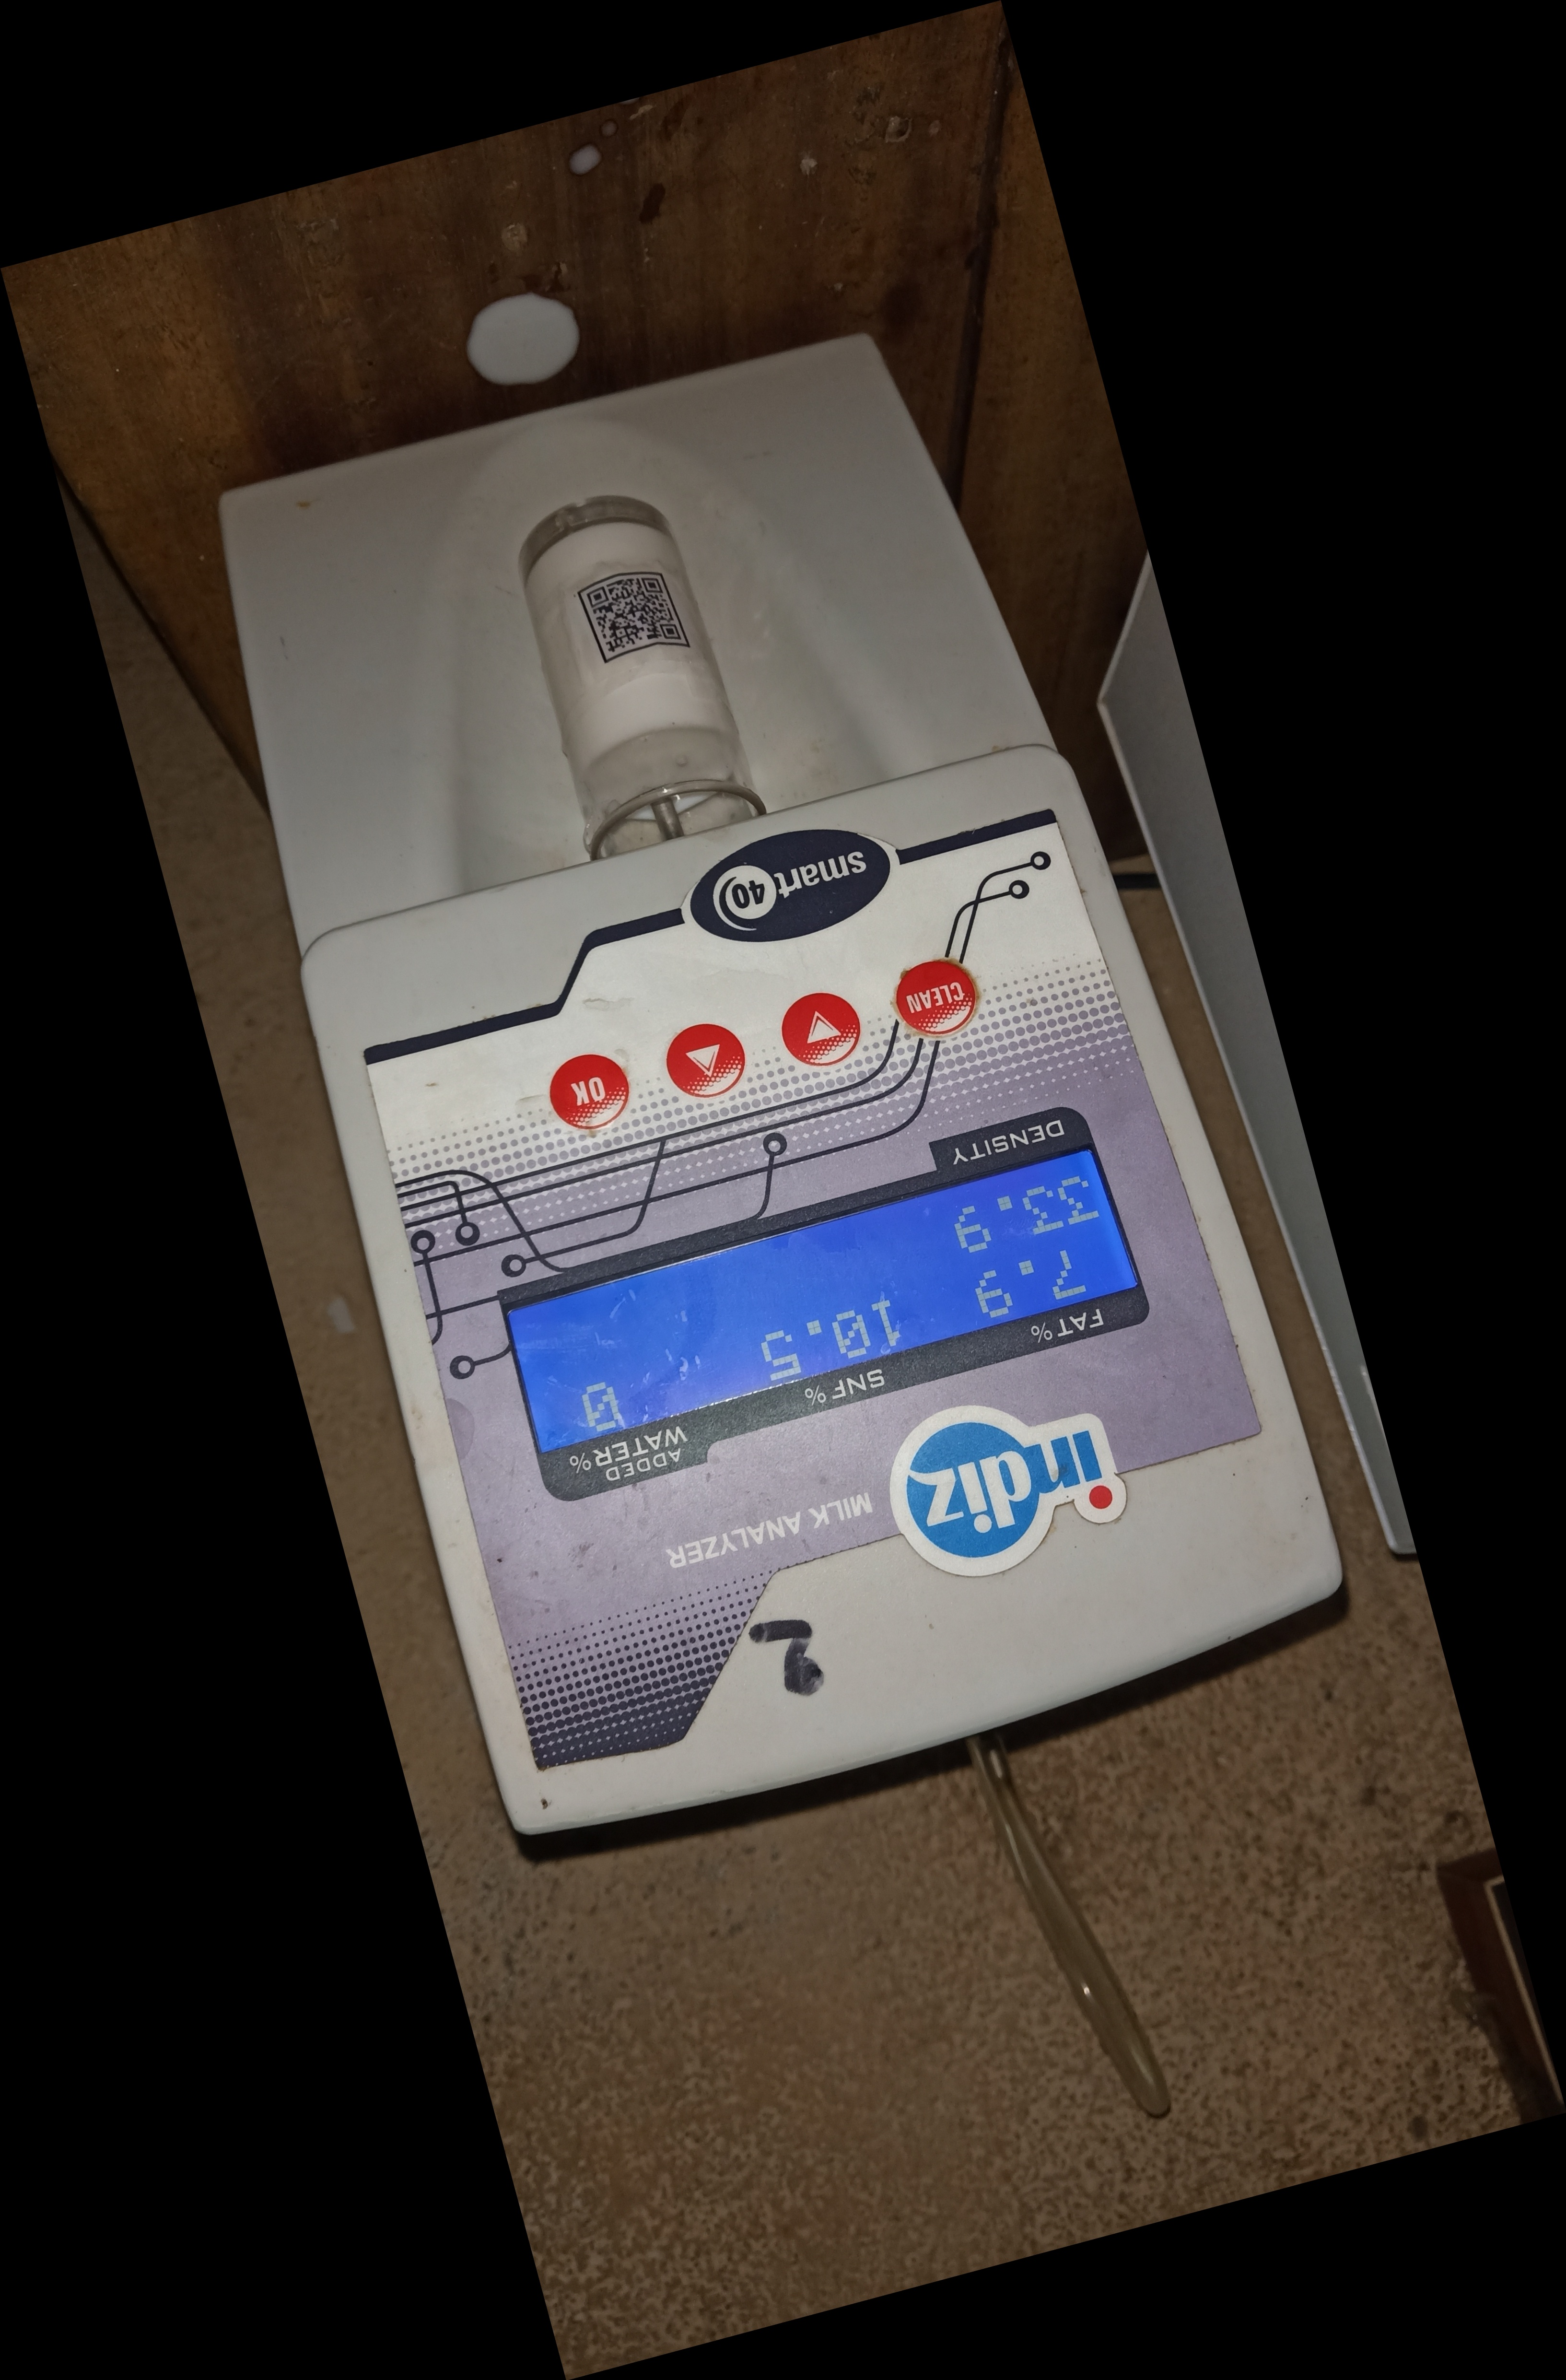lcd: (516, 1127, 1161, 1499)
qr: (559, 543, 703, 673)
